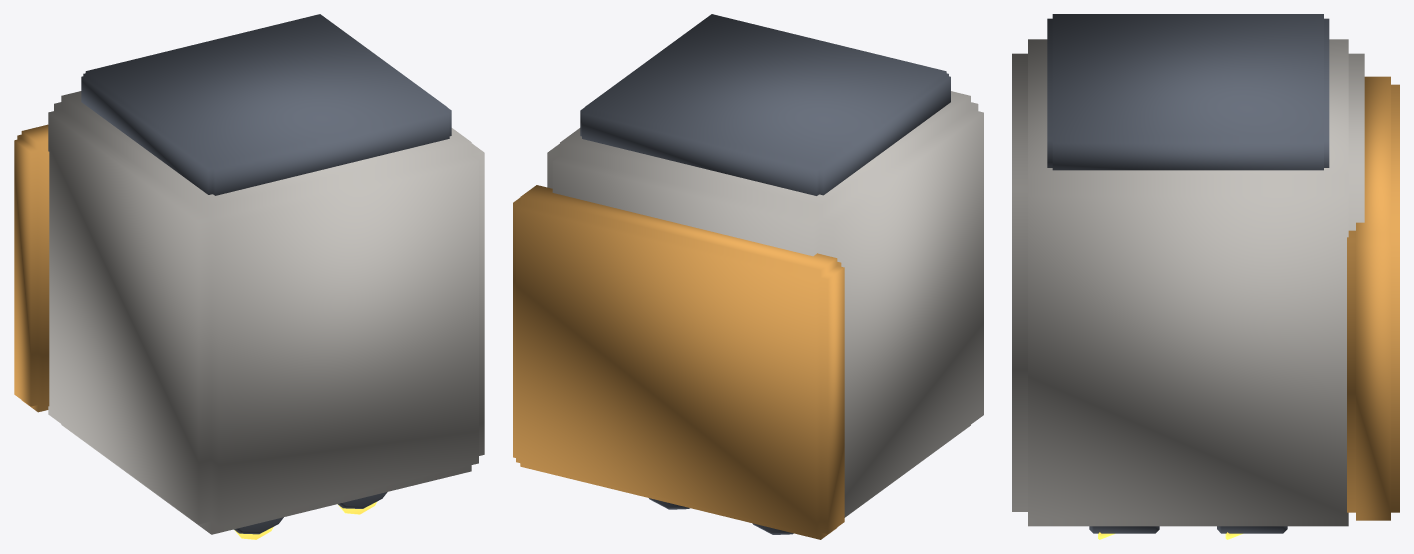
Rendered from rocket_pod_4.glb.
The picture shows the model from 3 angles, left to right: view 1: azimuth 30°, elevation 25°; view 2: azimuth 150°, elevation 25°; view 3: azimuth 270°, elevation 25°; orthographic projection. The views are drawn at different scales.
Parts seen in each view (by area): view 1: rocket_pod_4; view 2: rocket_pod_4; view 3: rocket_pod_4.
Part boxes in pixels (x1,y1,x2,y2): rocket_pod_4: [14, 14, 484, 539]; rocket_pod_4: [513, 14, 983, 539]; rocket_pod_4: [1012, 14, 1399, 539].
Bounding box in the file's own units: 0.44 × 0.5453 × 0.44.
